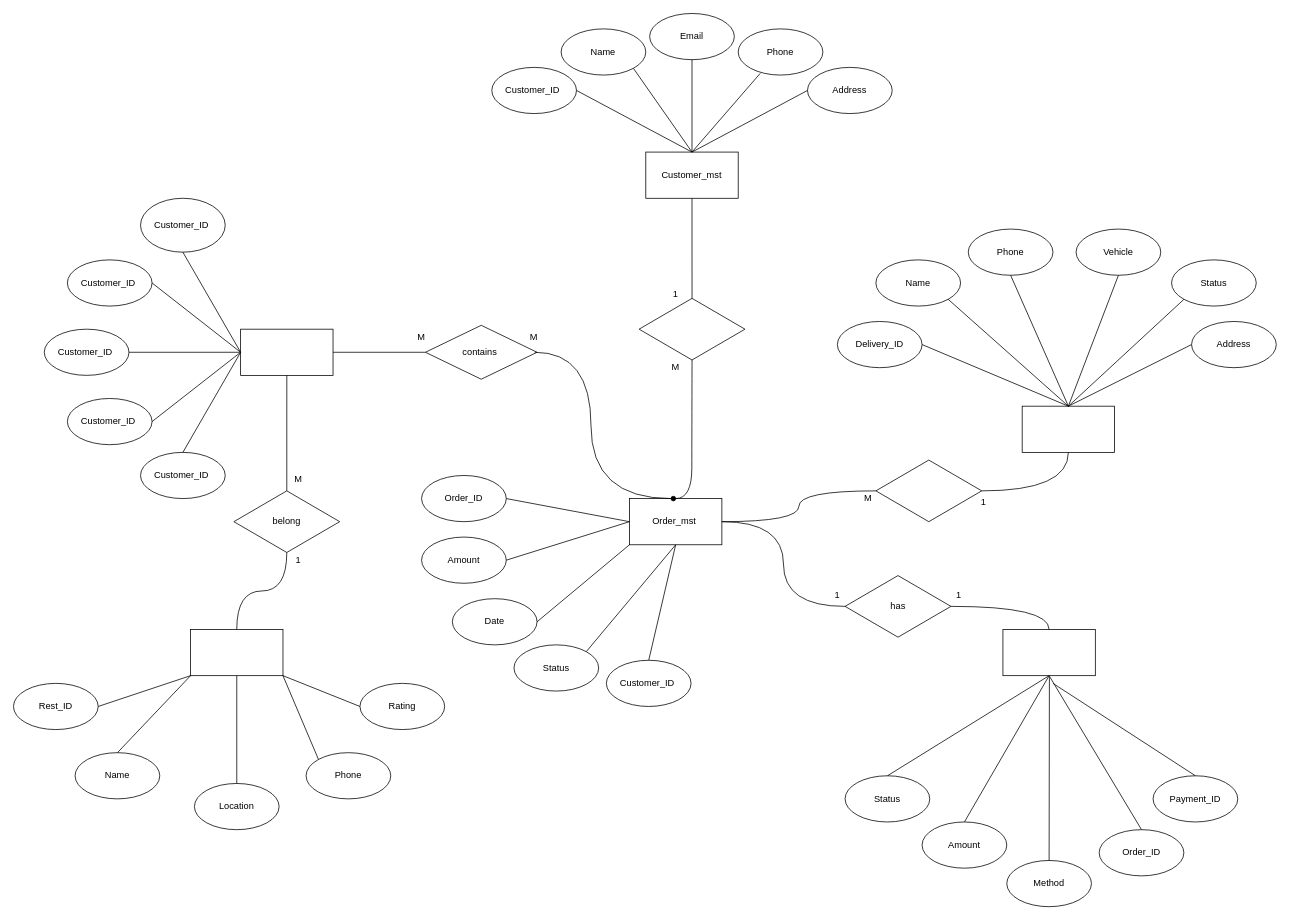
The diagram is 1290 pixels wide and 920 high, and some of its shapes have lost their labels. Here are the shapes that lost their labels. From the top down, the centre of each, then its label:
(691,329): places
(286,351): Food_mst
(1068,428): Delivery_mst
(928,490): delivered_by
(236,652): Restaurant_mst
(1048,652): Payment_mst
